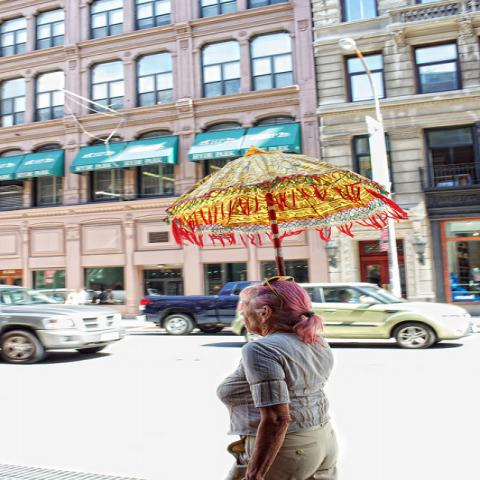car: (225, 283, 476, 351), (5, 285, 126, 363), (136, 281, 264, 335)
